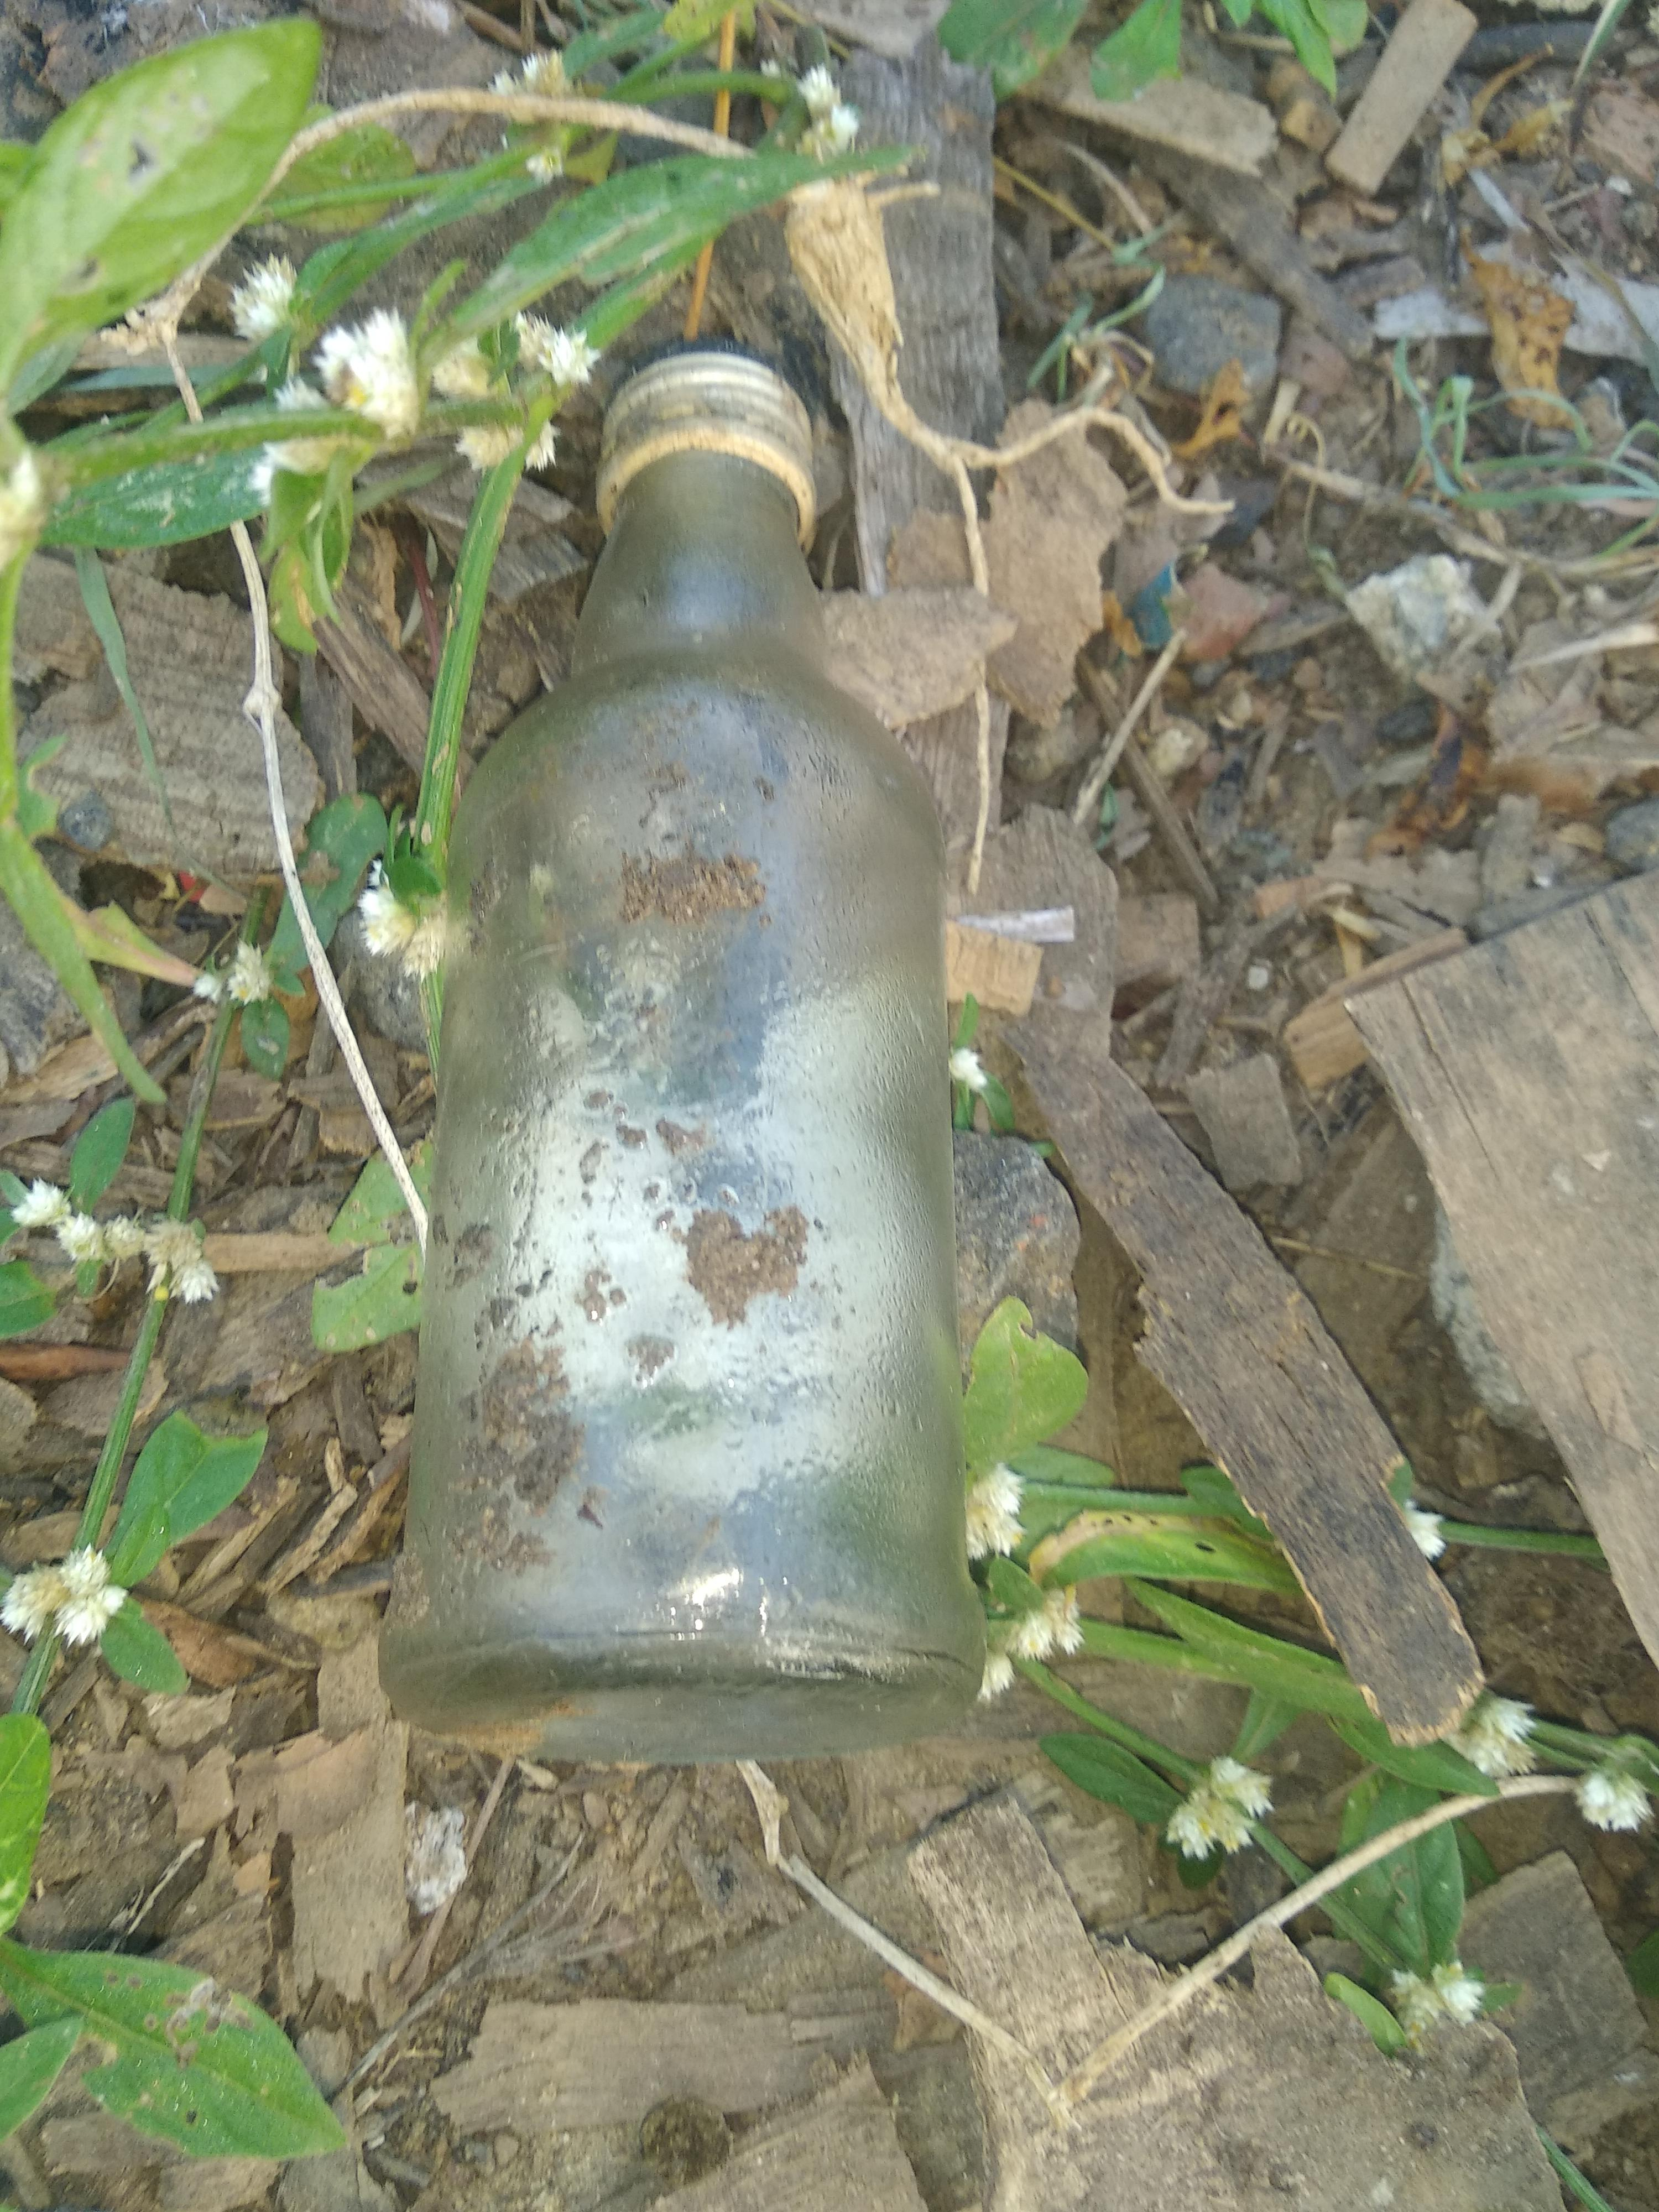organic: (347, 326, 1018, 1777)
